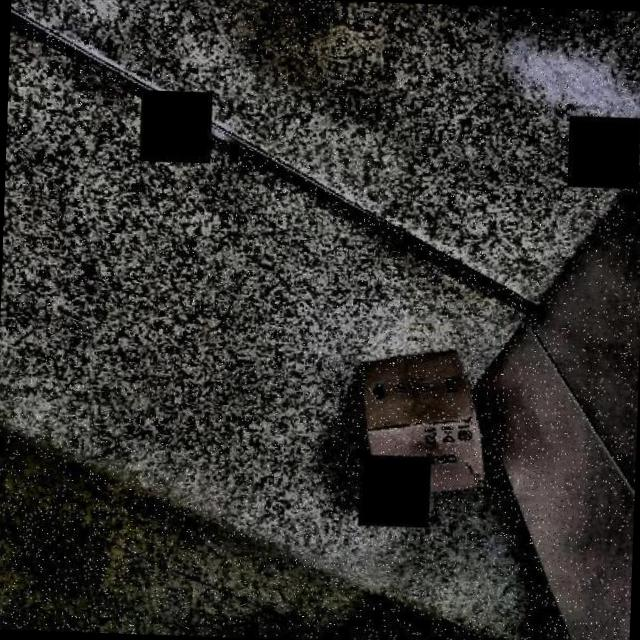box: (330, 335, 503, 512)
